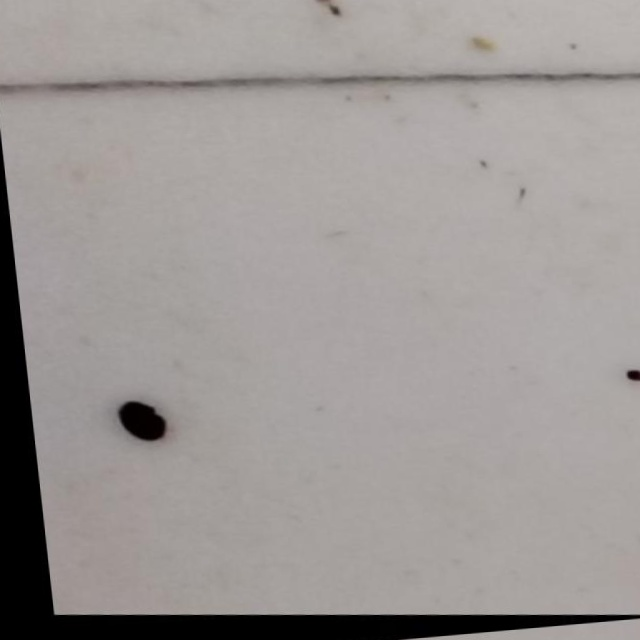varroa: (105, 402, 165, 452)
